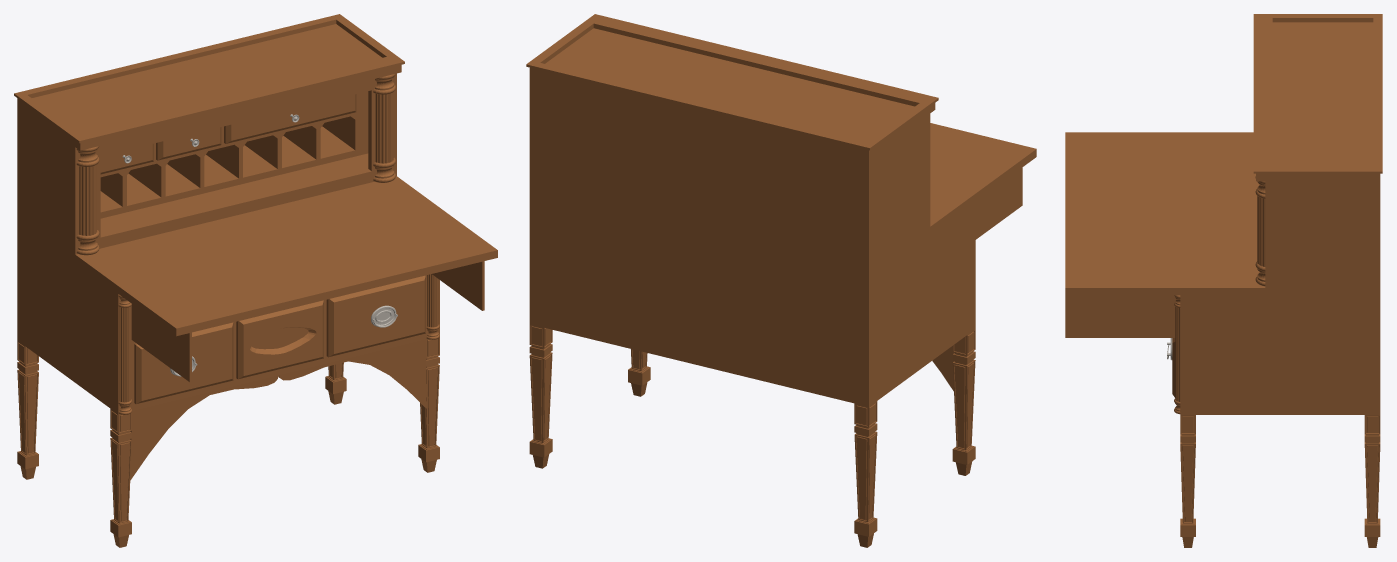
Rendered from desk-by-cmht-oculus-b7PfwOuvF99.glb.
3 views of the same model, side by side, from view 1: azimuth 30°, elevation 25°; view 2: azimuth 150°, elevation 25°; view 3: azimuth 270°, elevation 25° (orthographic). The views are drawn at different scales.
Parts seen in each view (by area): view 1: Node; view 2: Node; view 3: Node.
Part boxes in pixels (bbox=[...]): Node: bbox=[14, 14, 497, 547]; Node: bbox=[526, 14, 1036, 547]; Node: bbox=[1065, 14, 1382, 547].
Size of the model in its own units: 38.88 by 43.62 by 33.12.
